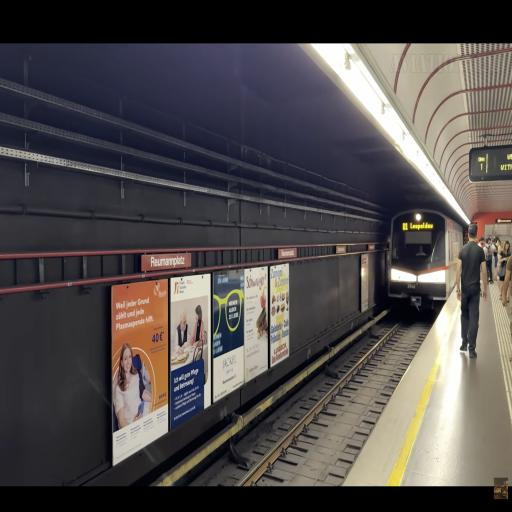V-Wagen: (388, 207, 464, 306)
